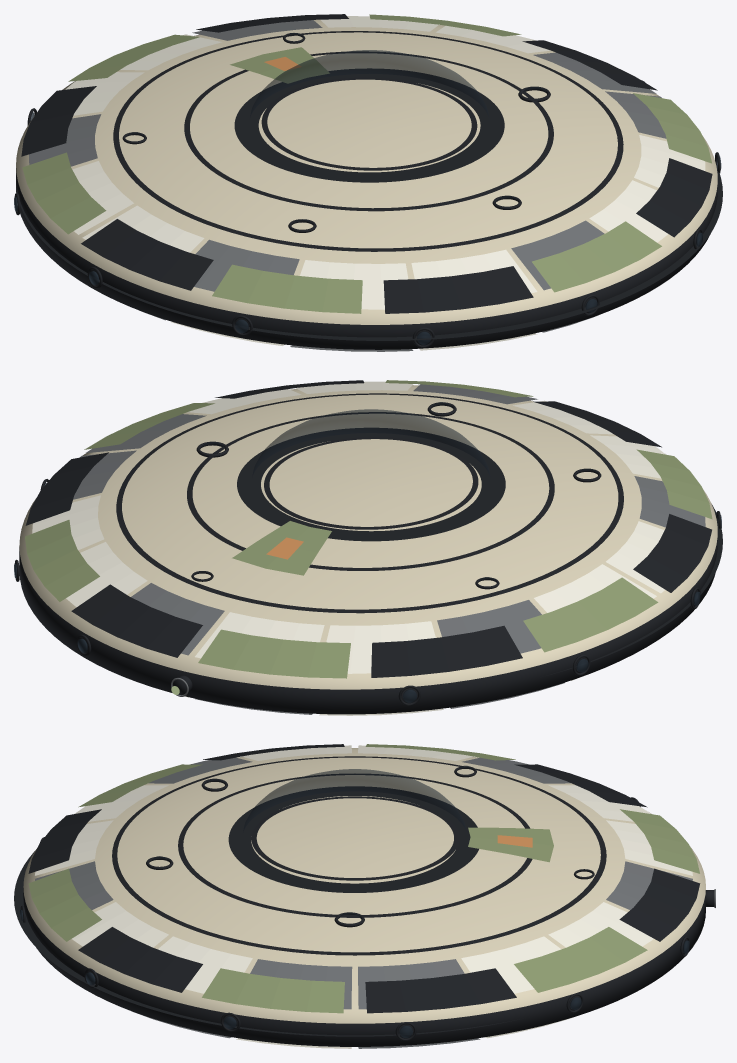
Rendered from Ship_FlyingSaucer_528770.glb.
The picture shows the model from 3 angles, top to bottom: view 1: azimuth 30°, elevation 25°; view 2: azimuth 150°, elevation 25°; view 3: azimuth 270°, elevation 25°; orthographic projection. The views are drawn at different scales.
Visible parts, largest first — view 1: Hull_LenticularThickDiscBody, CommandDomeFrame_UpperCircularRim, PaintDarkEquator_TopSegment_08, PaintDarkEquator_TopSegment_09, CommandDomeGlass_CenteredFlattenedDome, PanelRing_Top_03_DarkInsetLine, PaintDarkEquator_TopSegment_07, PaintDarkEquator_TopSegment_10, PaintDarkEquator_TopSegment_06, EquatorBand_DarkContinuousRimSeam, PaintDarkEquator_TopSegment_11, PanelRing_Top_02_DarkInsetLine (+24 smaller); view 2: Hull_LenticularThickDiscBody, CommandDomeFrame_UpperCircularRim, PaintDarkEquator_TopSegment_04, PaintDarkEquator_TopSegment_05, PaintDarkEquator_TopSegment_03, CommandDomeGlass_CenteredFlattenedDome, PaintDarkEquator_TopSegment_06, PanelRing_Top_03_DarkInsetLine, PaintDarkEquator_TopSegment_02, PaintDarkEquator_TopSegment_07, PanelRing_Top_02_DarkInsetLine, Decal_ForwardGlyph_PrimaryArrowPlate (+24 smaller); view 3: Hull_LenticularThickDiscBody, CommandDomeFrame_UpperCircularRim, PaintDarkEquator_TopSegment_01, PaintDarkEquator_TopSegment_12, PaintDarkEquator_TopSegment_02, PanelRing_Top_03_DarkInsetLine, CommandDomeGlass_CenteredFlattenedDome, PaintDarkEquator_TopSegment_11, PaintDarkEquator_TopSegment_03, PaintDarkEquator_TopSegment_10, PanelRing_Top_02_DarkInsetLine, RimArmorSegment_02_UpperHullPlate (+24 smaller).
Part boxes in pixels (<box>): Hull_LenticularThickDiscBody: <box>16,19,717,349</box>; CommandDomeFrame_UpperCircularRim: <box>234,68,504,182</box>; PaintDarkEquator_TopSegment_08: <box>212,264,362,313</box>; PaintDarkEquator_TopSegment_09: <box>383,266,533,313</box>; CommandDomeGlass_CenteredFlattenedDome: <box>250,50,489,117</box>; PanelRing_Top_03_DarkInsetLine: <box>113,31,623,251</box>; PaintDarkEquator_TopSegment_07: <box>81,219,213,290</box>; PaintDarkEquator_TopSegment_10: <box>532,221,661,292</box>; PaintDarkEquator_TopSegment_06: <box>22,152,106,234</box>; EquatorBand_DarkContinuousRimSeam: <box>16,165,722,340</box>; PaintDarkEquator_TopSegment_11: <box>636,158,712,237</box>; PanelRing_Top_02_DarkInsetLine: <box>184,51,553,211</box>; Hull_LenticularThickDiscBody: <box>19,385,717,714</box>; CommandDomeFrame_UpperCircularRim: <box>237,428,505,541</box>; PaintDarkEquator_TopSegment_04: <box>198,629,350,678</box>; PaintDarkEquator_TopSegment_05: <box>371,625,522,677</box>; PaintDarkEquator_TopSegment_03: <box>71,584,202,657</box>; CommandDomeGlass_CenteredFlattenedDome: <box>252,409,490,477</box>; PaintDarkEquator_TopSegment_06: <box>523,577,658,652</box>; PanelRing_Top_03_DarkInsetLine: <box>116,393,623,613</box>; PaintDarkEquator_TopSegment_02: <box>25,520,99,601</box>; PaintDarkEquator_TopSegment_07: <box>633,514,711,592</box>; PanelRing_Top_02_DarkInsetLine: <box>187,412,554,570</box>; Decal_ForwardGlyph_PrimaryArrowPlate: <box>232,521,331,575</box>; Hull_LenticularThickDiscBody: <box>23,748,705,1046</box>; CommandDomeFrame_UpperCircularRim: <box>228,786,478,892</box>; PaintDarkEquator_TopSegment_01: <box>365,968,516,1013</box>; PaintDarkEquator_TopSegment_12: <box>202,968,344,1013</box>; PaintDarkEquator_TopSegment_02: <box>514,927,647,992</box>; PanelRing_Top_03_DarkInsetLine: <box>112,756,606,955</box>; CommandDomeGlass_CenteredFlattenedDome: <box>243,769,466,832</box>; PaintDarkEquator_TopSegment_11: <box>78,927,202,992</box>; PaintDarkEquator_TopSegment_03: <box>619,868,700,941</box>; PaintDarkEquator_TopSegment_10: <box>28,868,101,941</box>; PanelRing_Top_02_DarkInsetLine: <box>178,773,532,917</box>; RimArmorSegment_02_UpperHullPlate: <box>461,936,561,993</box>.
Bounding box in the file's own units: 5.08 × 1.67 × 5.5.
